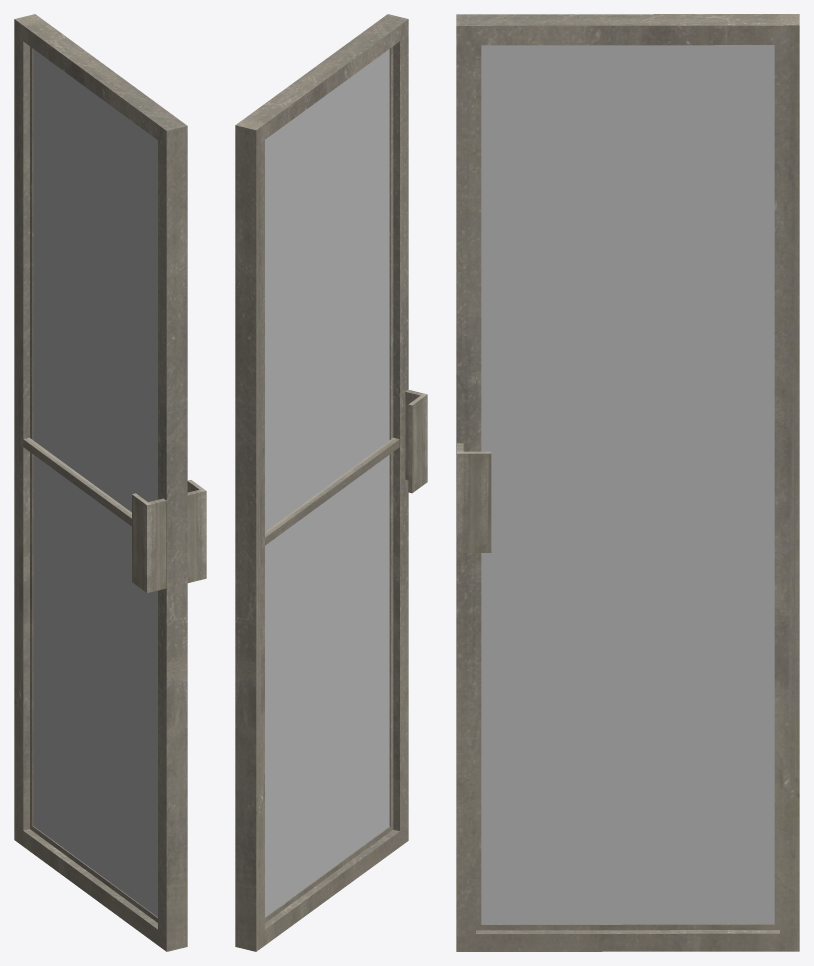
The model's file is right_door.glb.
3 views of the same model, side by side, from view 1: azimuth 30°, elevation 25°; view 2: azimuth 150°, elevation 25°; view 3: azimuth 270°, elevation 25° (orthographic). The views are drawn at different scales.
Parts seen in each view (by area): view 1: Door.001; view 2: Door.001; view 3: Door.001.
Part boxes in pixels (x1,y1,x2,y2): Door.001: (14,14,206,951); Door.001: (235,14,427,951); Door.001: (456,14,799,951).
Bounding box in the file's own units: 0.1837 × 2.43 × 0.8159.
2 materials, 1 textured.
